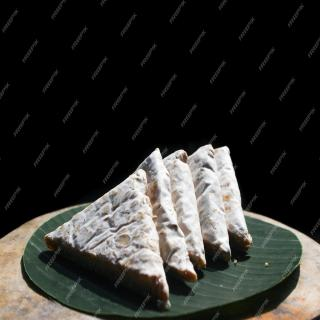Tempe: (134, 148, 199, 284), (188, 145, 233, 264), (163, 150, 207, 271), (214, 146, 254, 252)
